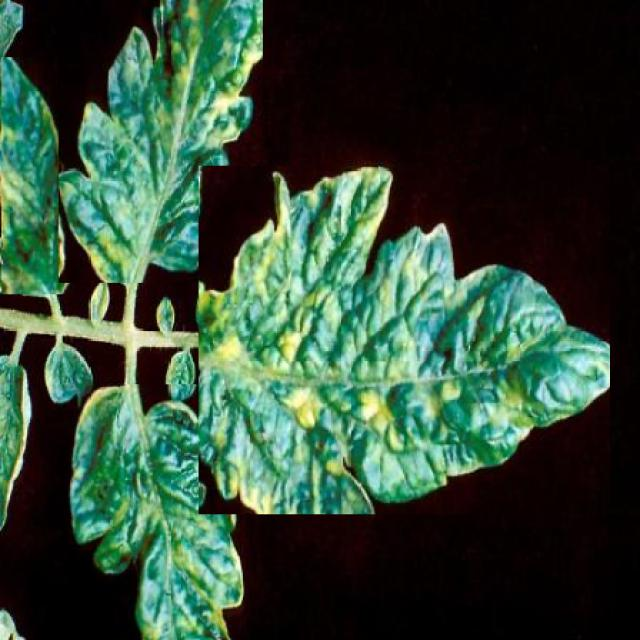Mosaic Virus: (199, 165, 610, 515), (58, 0, 263, 283), (56, 384, 246, 640), (1, 56, 74, 294)
